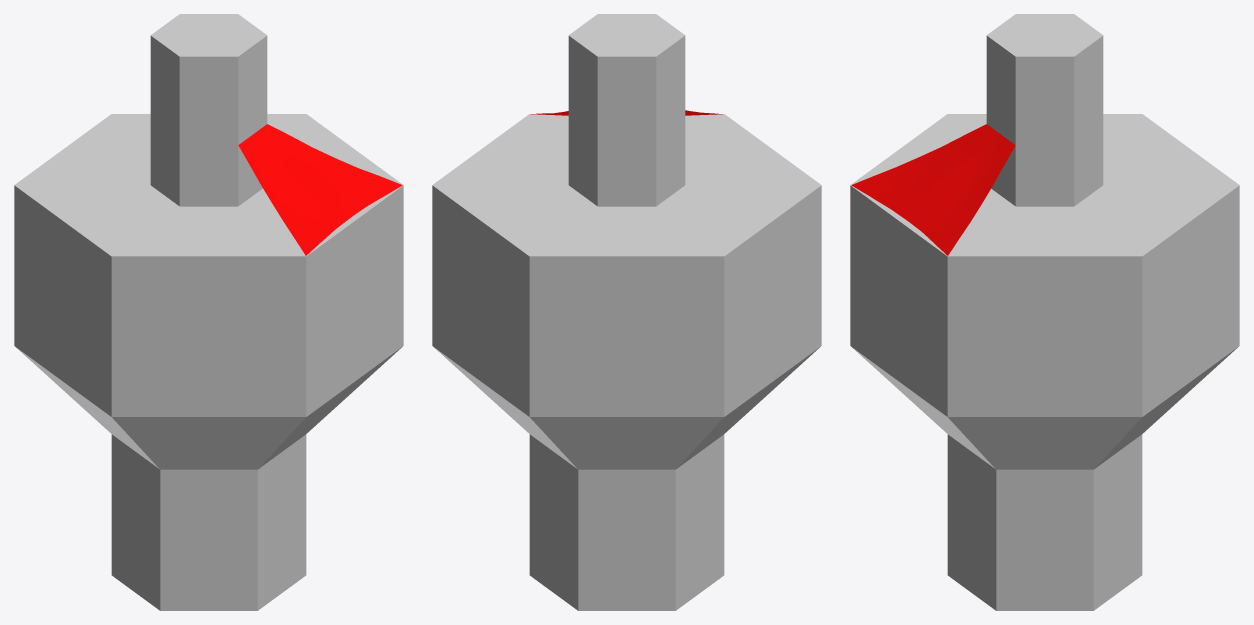
File: HiveHub.fbx
3 renders of one model, left to right at view 1: azimuth 30°, elevation 25°; view 2: azimuth 150°, elevation 25°; view 3: azimuth 270°, elevation 25°, orthographic.
Visible parts, largest first — view 1: main body, top_tower, fabric; view 2: main body, top_tower; view 3: main body, top_tower, fabric.
Boxes of the visible parts, <box> form: main body: <box>14,114,403,610</box>; top_tower: <box>150,14,267,206</box>; fabric: <box>238,124,402,255</box>; main body: <box>432,114,821,610</box>; top_tower: <box>568,14,685,206</box>; main body: <box>850,114,1239,610</box>; top_tower: <box>986,14,1103,206</box>; fabric: <box>851,124,1015,255</box>.
Size of what is drawn, in the model's own units: 34.64 by 61.17 by 40.
